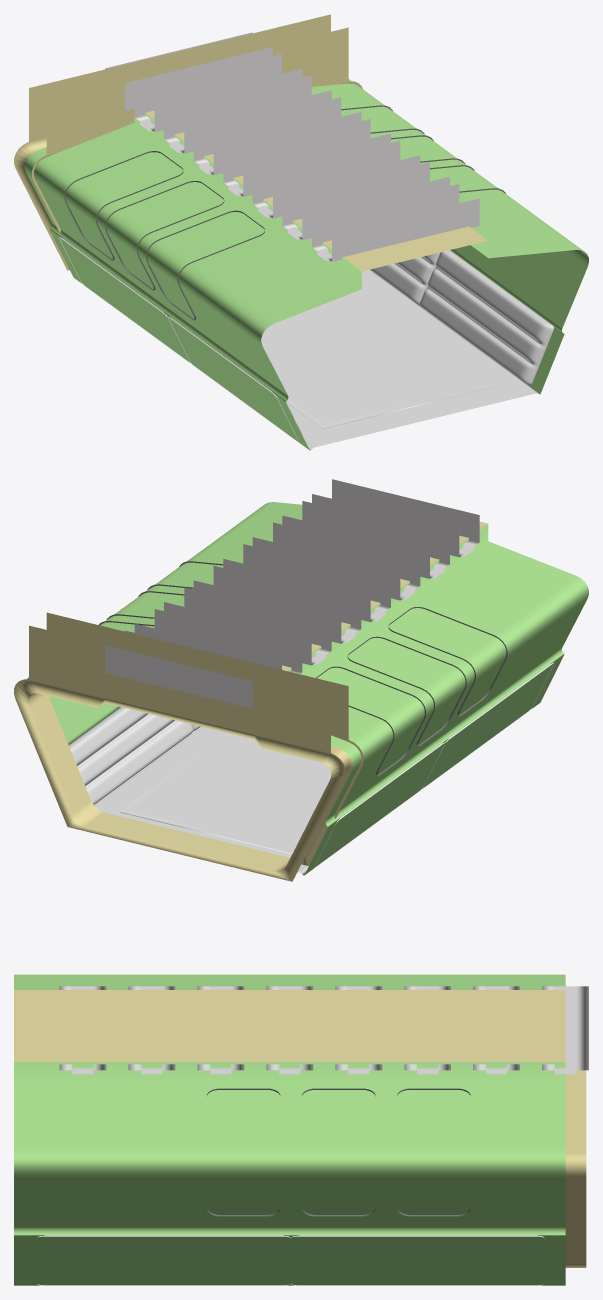
The model's file is sm_BL_corridor_kit_01.fbx.
3 renders of one model, top to bottom at view 1: azimuth 30°, elevation 25°; view 2: azimuth 150°, elevation 25°; view 3: azimuth 270°, elevation 25°, orthographic. The views are drawn at different scales.
Parts seen in each view (by area): view 1: Plane.005; view 2: Plane.005; view 3: Plane.005.
Boxes of the visible parts, x1,y1,x2,y2 form: Plane.005: (14,14,588,450); Plane.005: (14,479,588,881); Plane.005: (14,974,588,1285).
Size of the model in its own units: 648 by 358 by 834.
